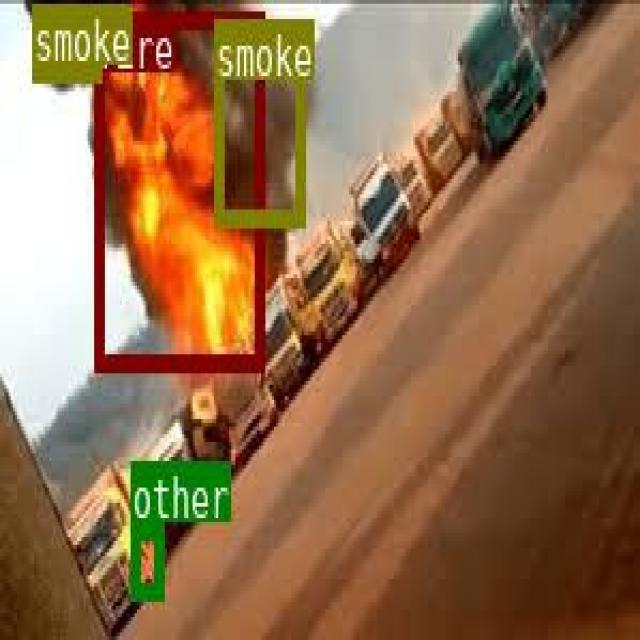fire: (93, 9, 262, 368)
smoke: (212, 16, 302, 223), (32, 0, 99, 78)
